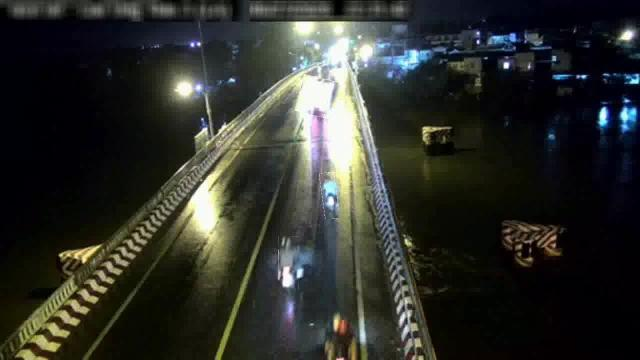Bike: (278, 236, 300, 289), (320, 172, 338, 219)
Truck: (297, 76, 339, 118)
